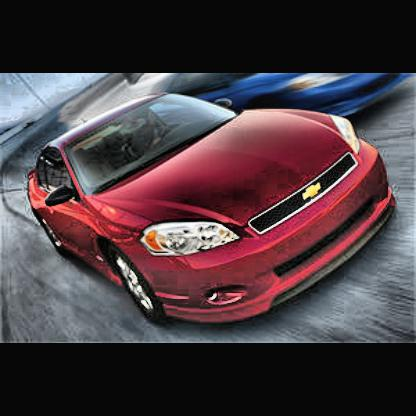Chevrolet Monte Carlo Coupe 2007: (26, 90, 399, 331)
